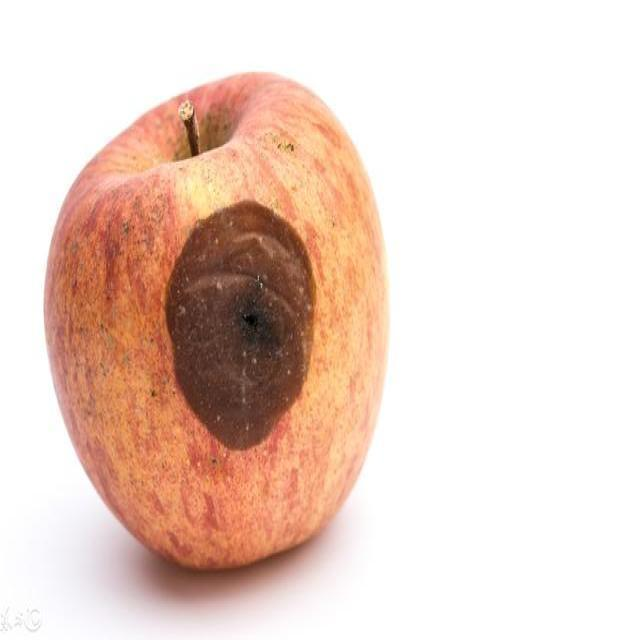apple: (42, 69, 390, 572)
